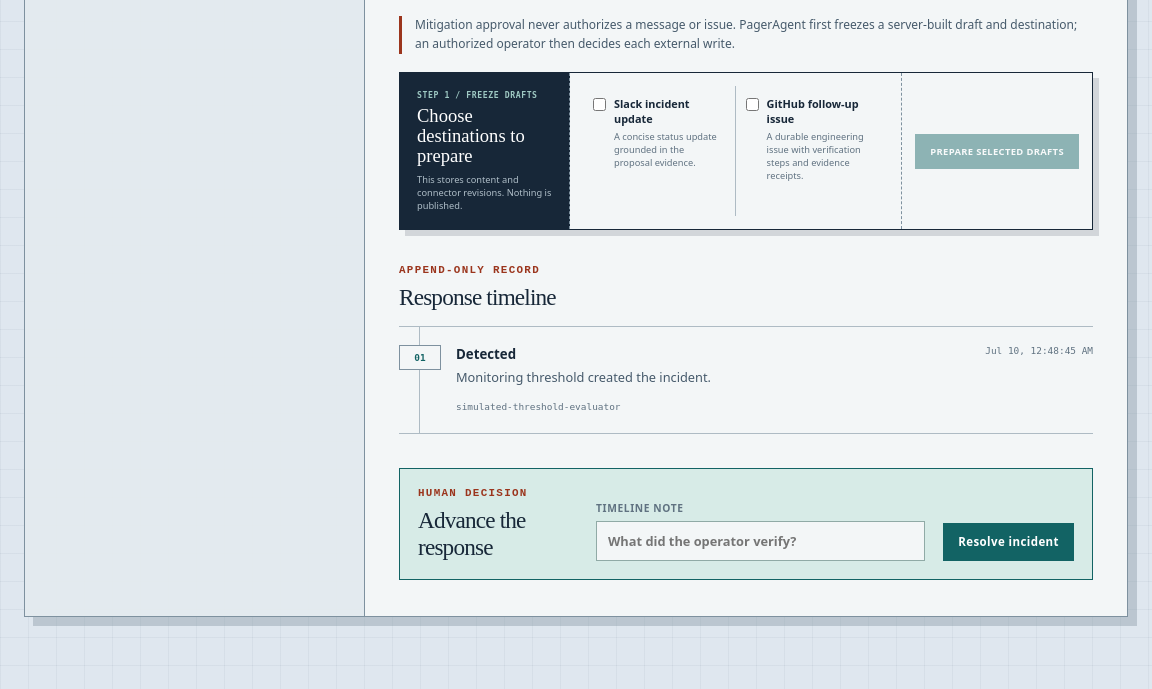
Test: does not start a transition follow-up after selection changes during queue refresh
(page scrolled)
Step 1. Click the button "Resolve incident" → point(1009, 542), box x1=943 y1=523 x2=1074 y2=561
(page scrolled)
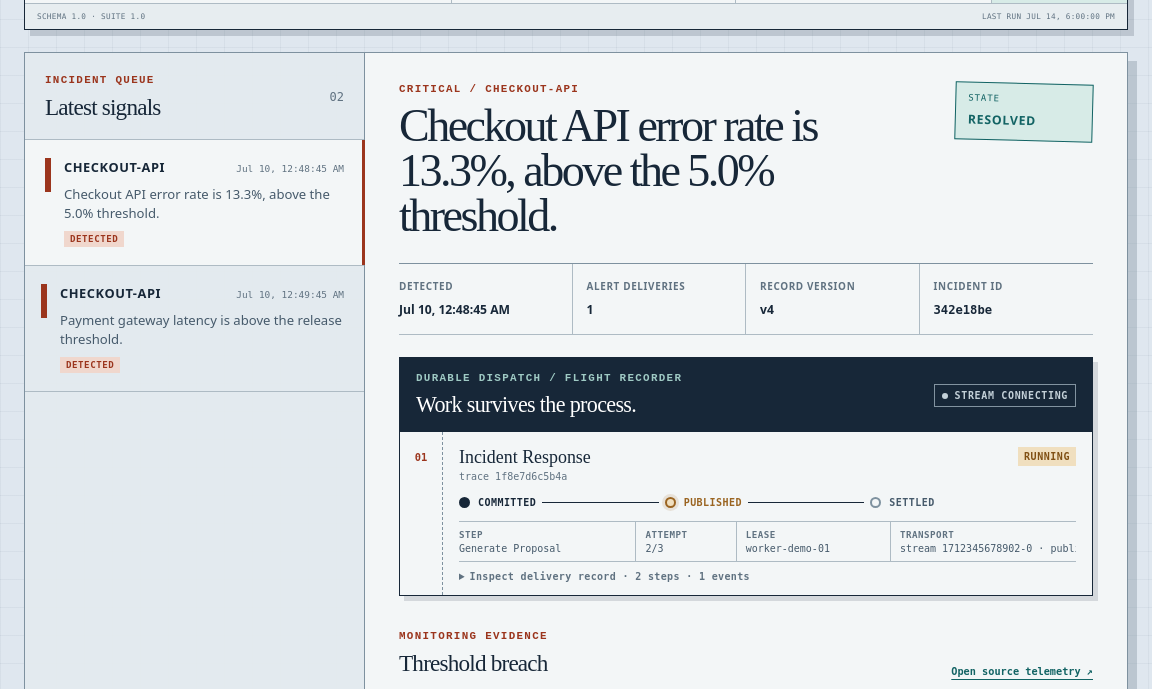
Step 2. Click the button named "Payment gateway latency is above the release threshold." → point(194, 329), box x1=25 y1=266 x2=364 y2=392
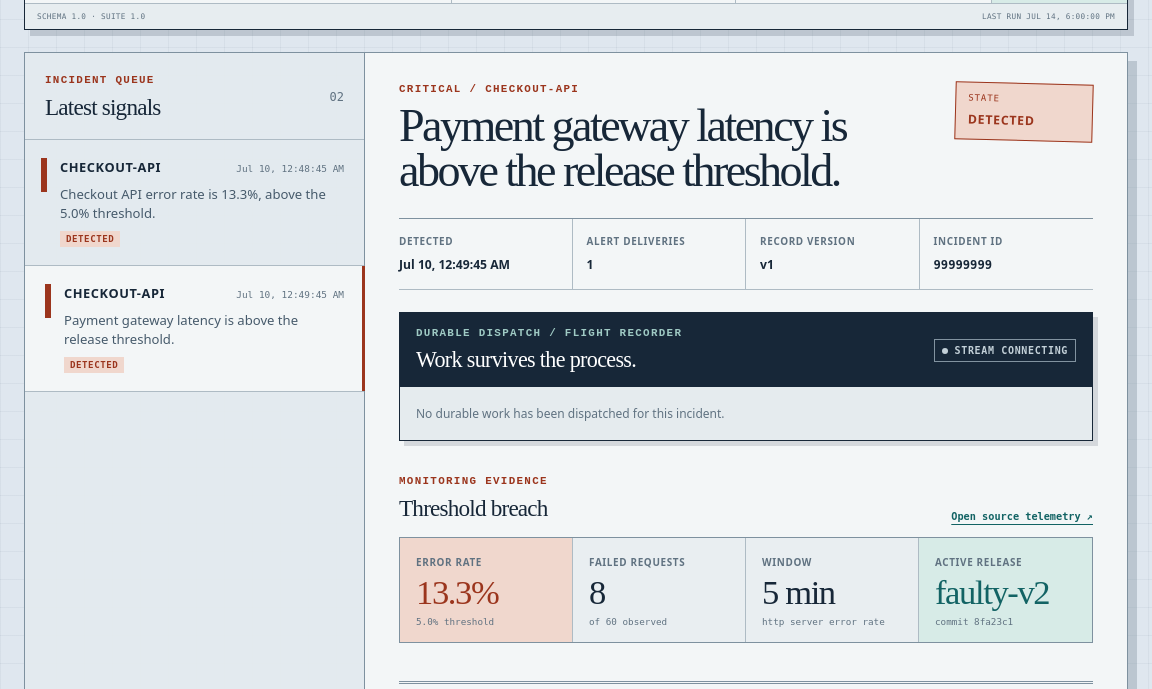
Expected: the heading "Payment gateway latency is above the release threshold." is shown, x1=399 y1=100 x2=846 y2=196
